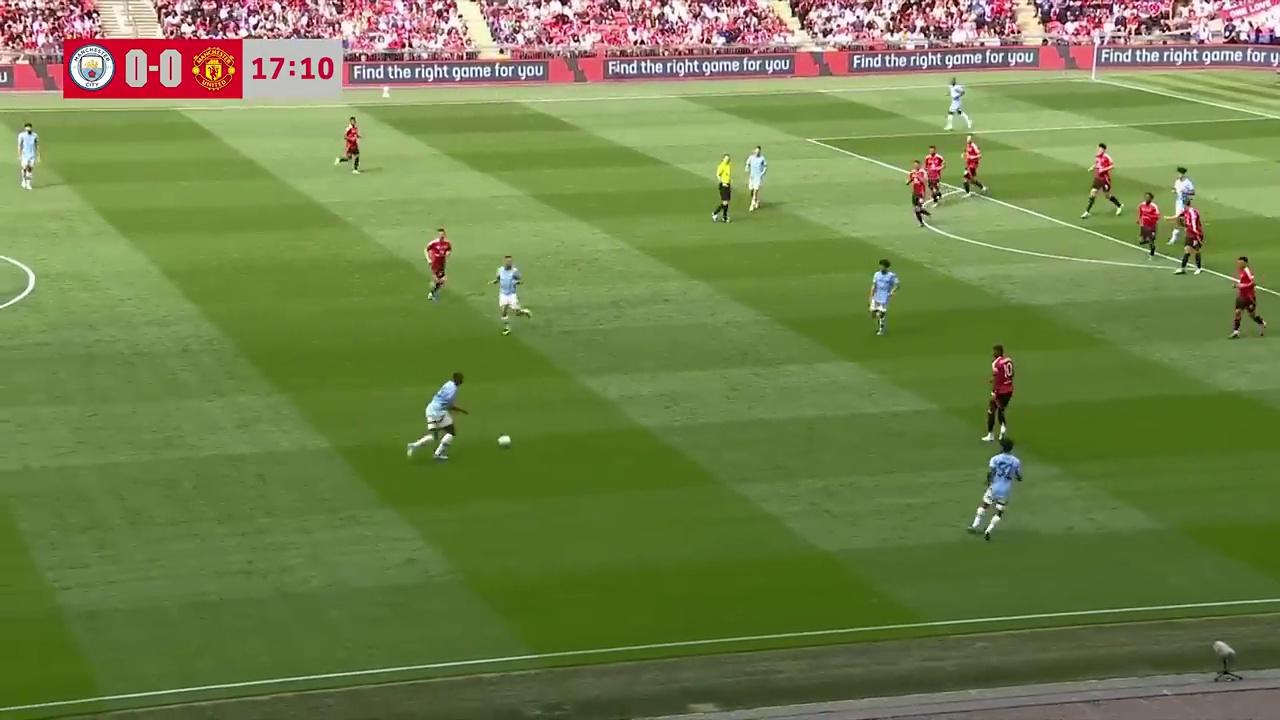ball: (495, 431, 512, 448)
player: (967, 438, 1023, 541), (405, 372, 467, 461), (489, 255, 533, 335), (980, 344, 1014, 442), (1228, 255, 1267, 339), (1081, 142, 1122, 218), (868, 259, 899, 335), (1174, 202, 1204, 276), (425, 226, 451, 301), (1169, 167, 1195, 239), (1136, 191, 1161, 260), (16, 122, 40, 190), (743, 144, 767, 212), (907, 159, 931, 227), (334, 116, 362, 173), (960, 136, 983, 198), (924, 144, 944, 211), (944, 78, 970, 128)
referee: (712, 154, 734, 223)
